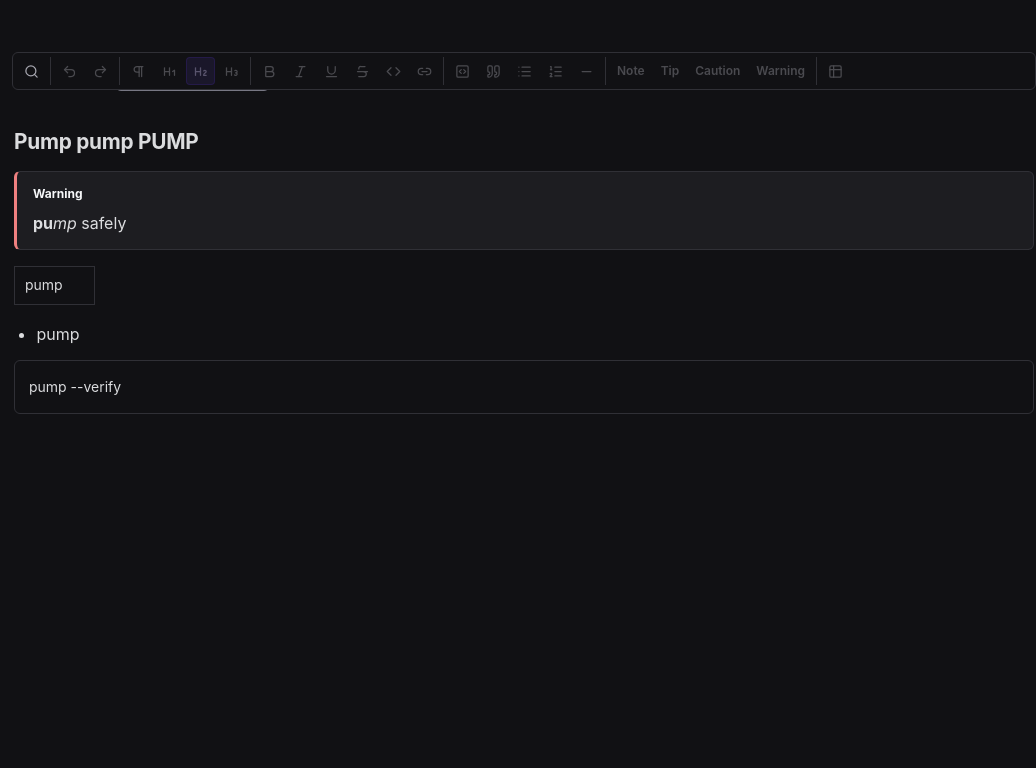
Test: topic search panel › offers Reviewer search but disables replace controls with no save
The image size is (1036, 768).
Click the button named "Find and replace" at (32, 71), box top-left (17, 57), bottom-right (46, 85)
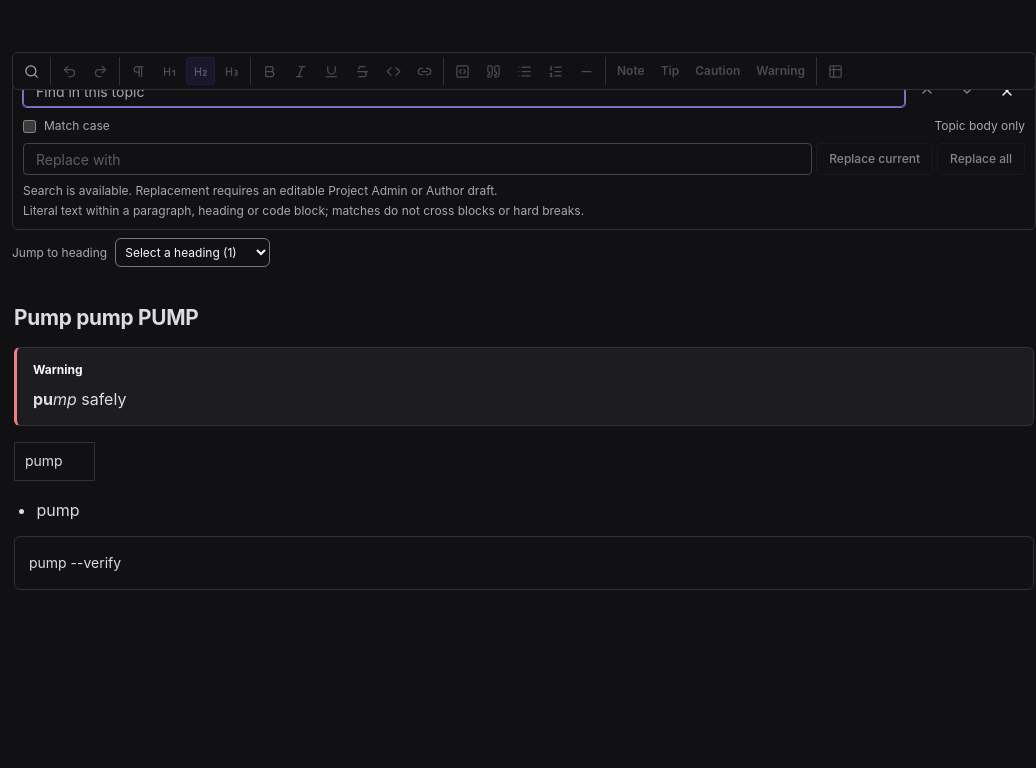
Type "pump" into the field labelled "Find in this topic" at (464, 91), box top-left (23, 75), bottom-right (905, 107)
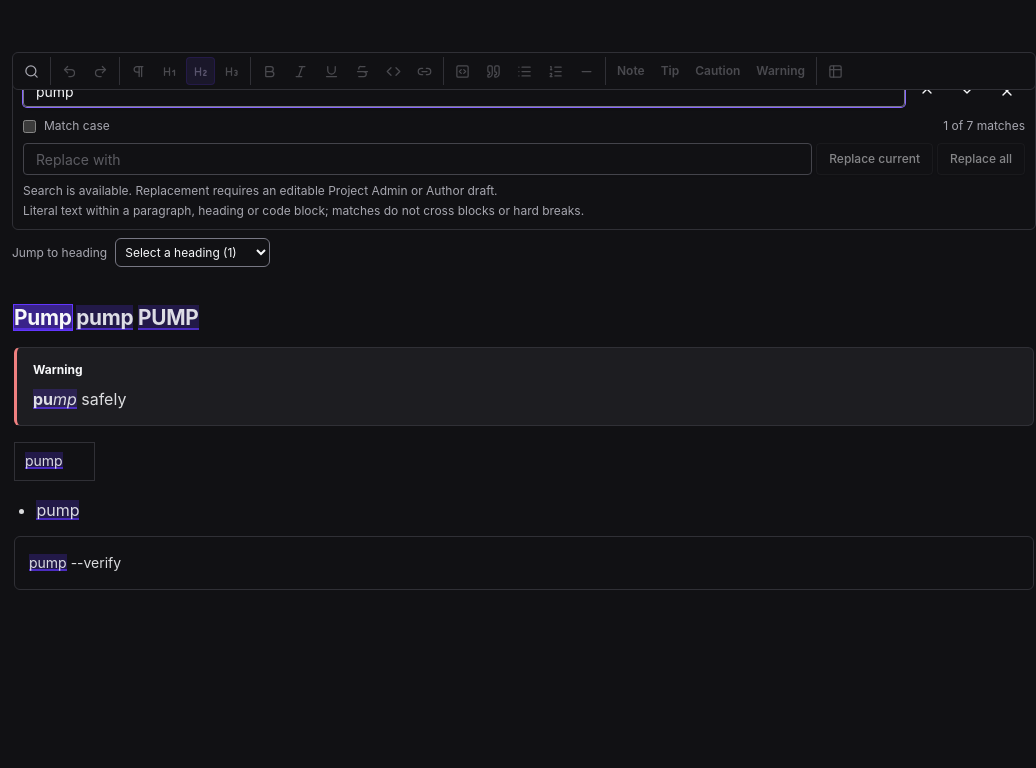
Click the button named "Next match" at (967, 91), box top-left (949, 73), bottom-right (985, 109)
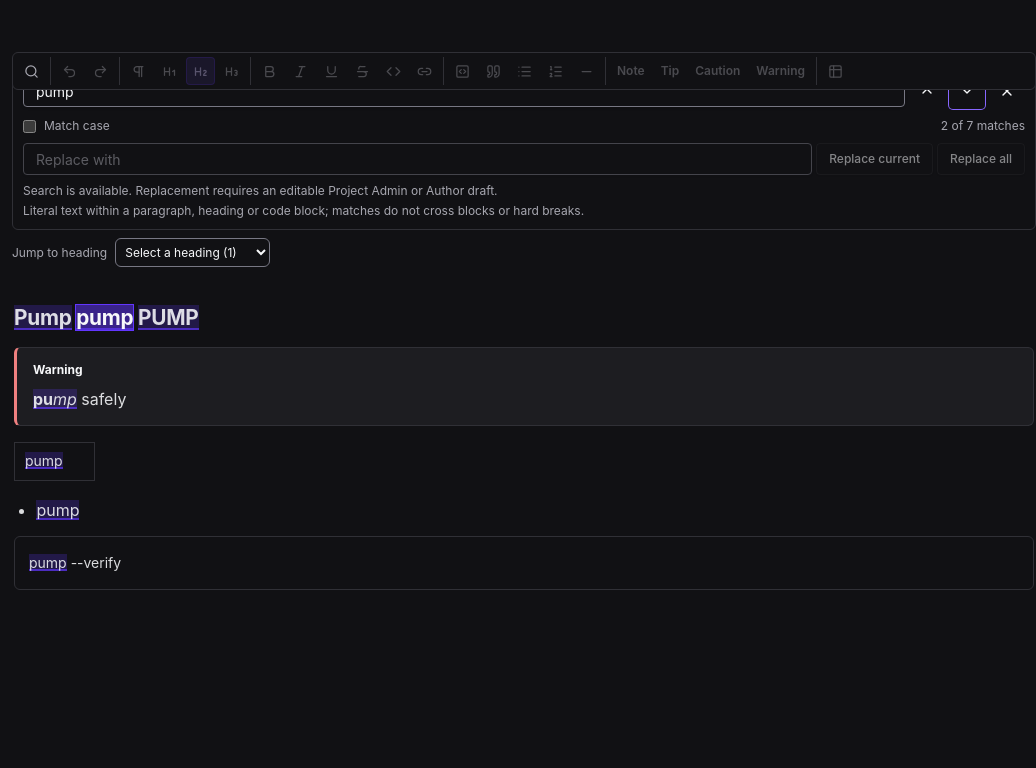
Expected: the field labelled "Replace with" is disabled, top-left (23, 143), bottom-right (812, 175)
Expected: the button "Replace current" is disabled, top-left (816, 143), bottom-right (933, 175)
Expected: the message reads "2 of 7 matches", top-left (941, 118), bottom-right (1025, 133)
